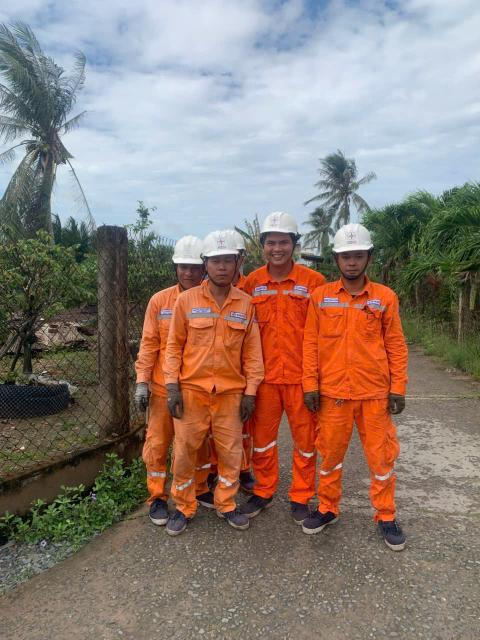gloves: (162, 381, 191, 415), (379, 395, 415, 422), (125, 377, 154, 408), (297, 387, 322, 417), (240, 392, 259, 426)
helmet: (154, 228, 210, 275), (330, 225, 379, 264), (256, 212, 305, 247), (195, 229, 236, 264), (220, 221, 252, 257)
